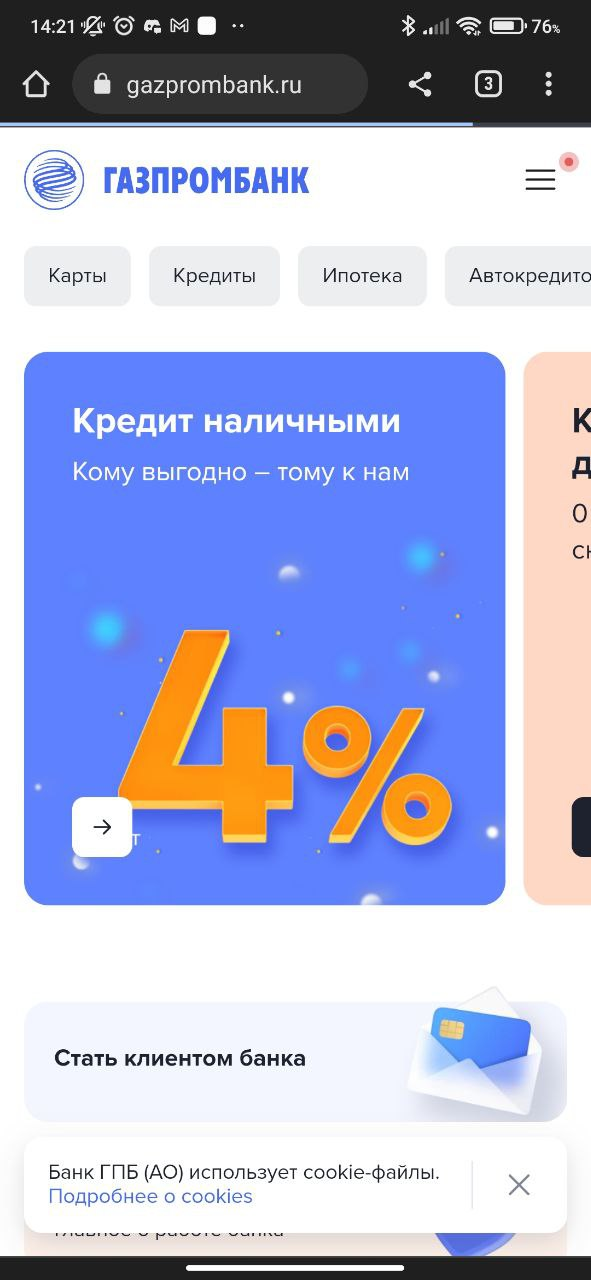burger_menu: (522, 161, 559, 195)
